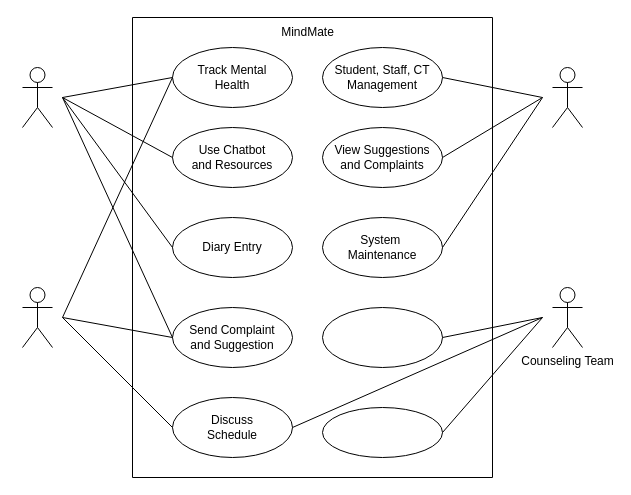
The diagram is 631 pixels wide and 495 high, and some of its shapes have lost their labels. The shapes that lost their labels are listed below. From the top down, each one's box as (x1, y1, x2, y2) in pixels, then its label:
(22, 66, 52, 128): Student
(552, 66, 582, 128): Admin
(22, 286, 52, 348): Staff
(322, 306, 442, 368): Schedule Management
(322, 406, 442, 458): Update Progress
